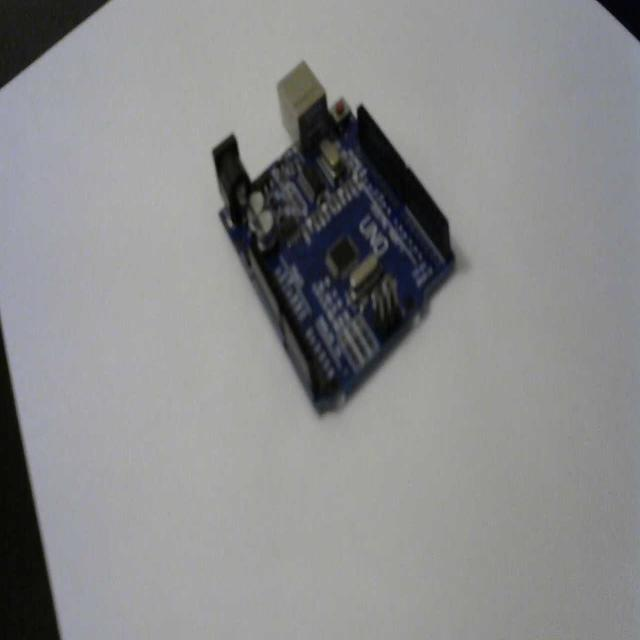arduino: (208, 54, 460, 418)
